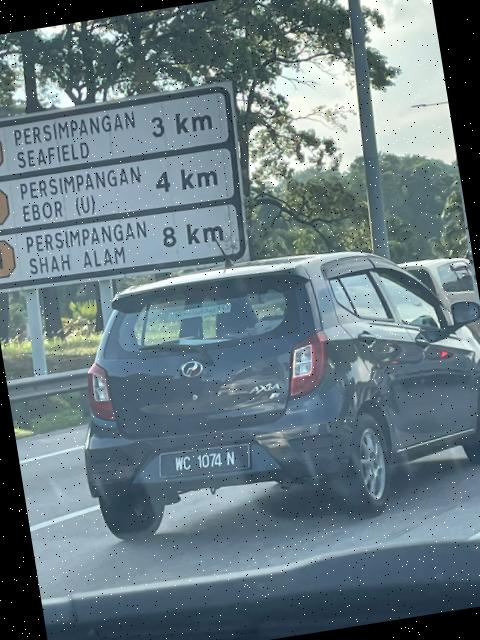License_Plate: (155, 437, 258, 494)
car: (48, 221, 480, 554)
